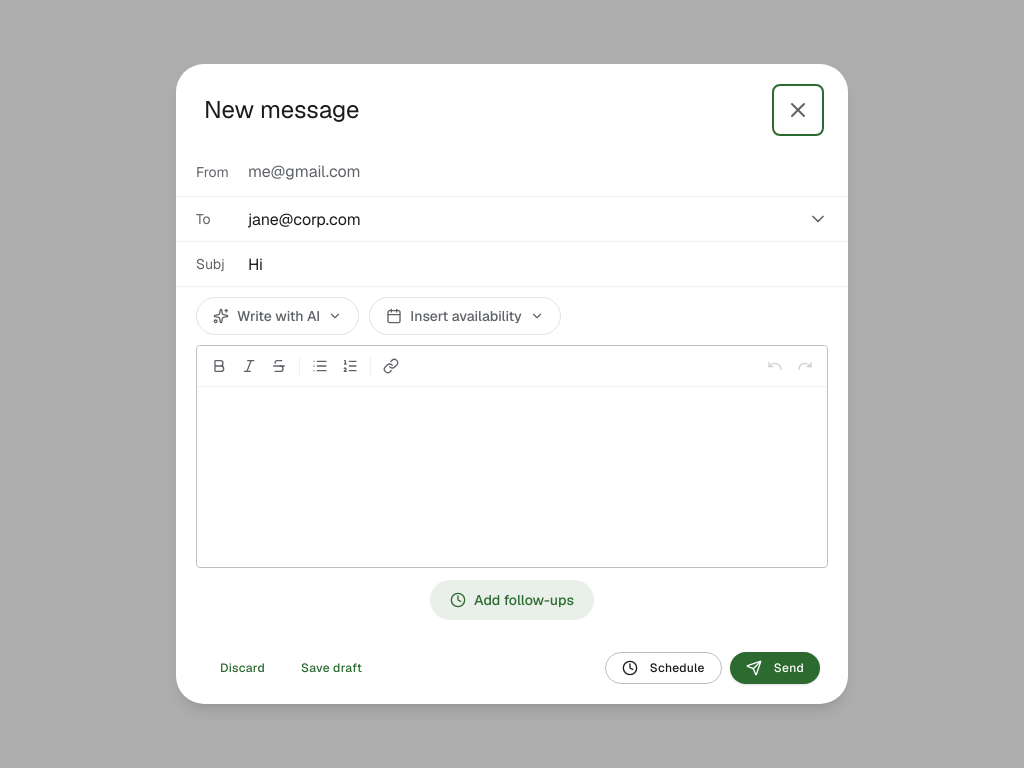
Test: ComposeEmailModal — follow-ups + custom scheduler (CAR-120) › adds a manual follow-up step by hand (no AI needed)
Click the button "Add follow-ups" at (512, 600), box 430,580 -> 594,620
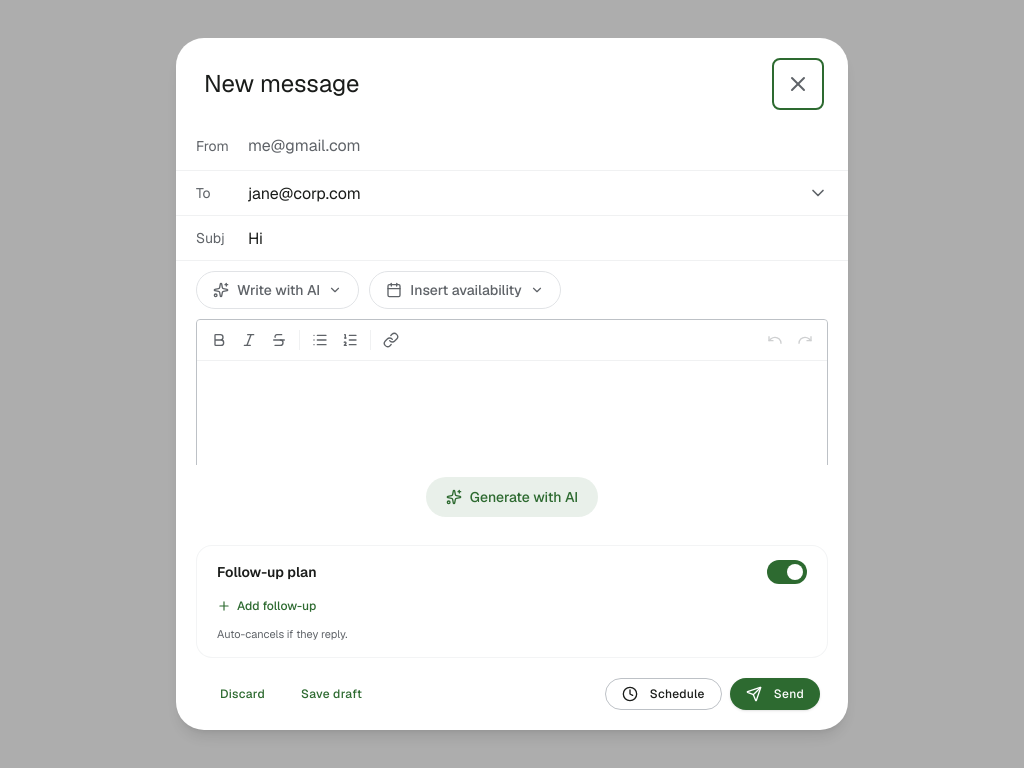
Result: the button "Generate with AI" is shown at 426,477 -> 598,517
Click the button "Add follow-up" at (267, 606), box 217,598 -> 316,614
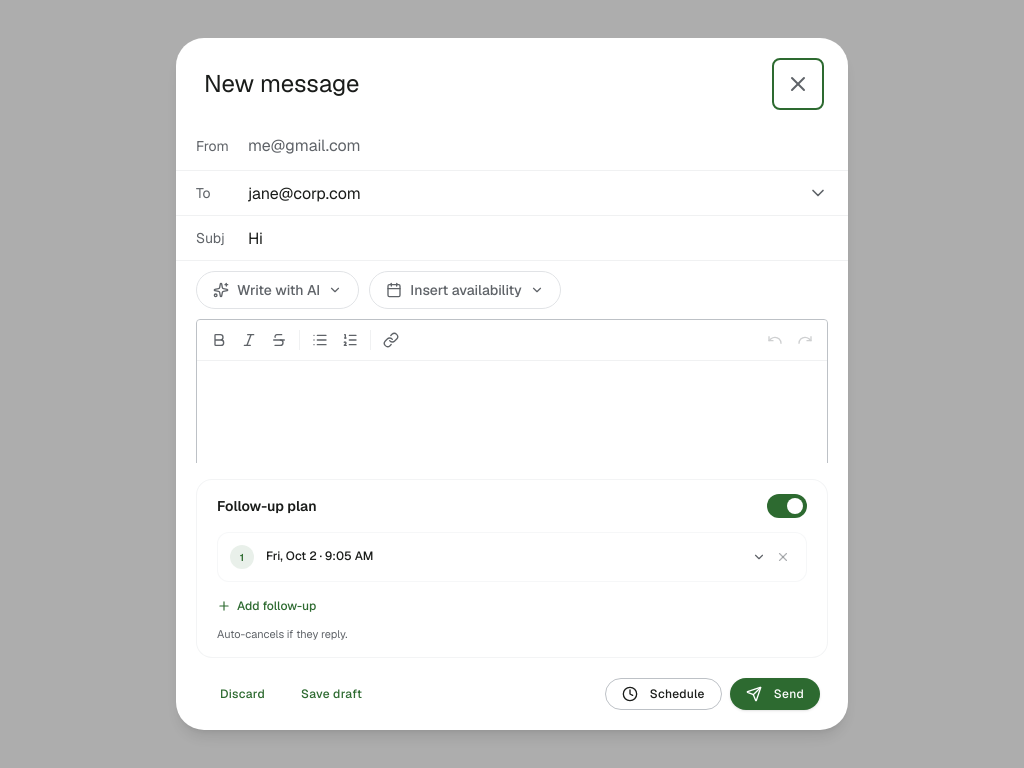
Result: the text "Fri, Oct 2 · 9:05 AM" is shown at 266,548 -> 373,564
Result: the button "Generate with AI" is gone
